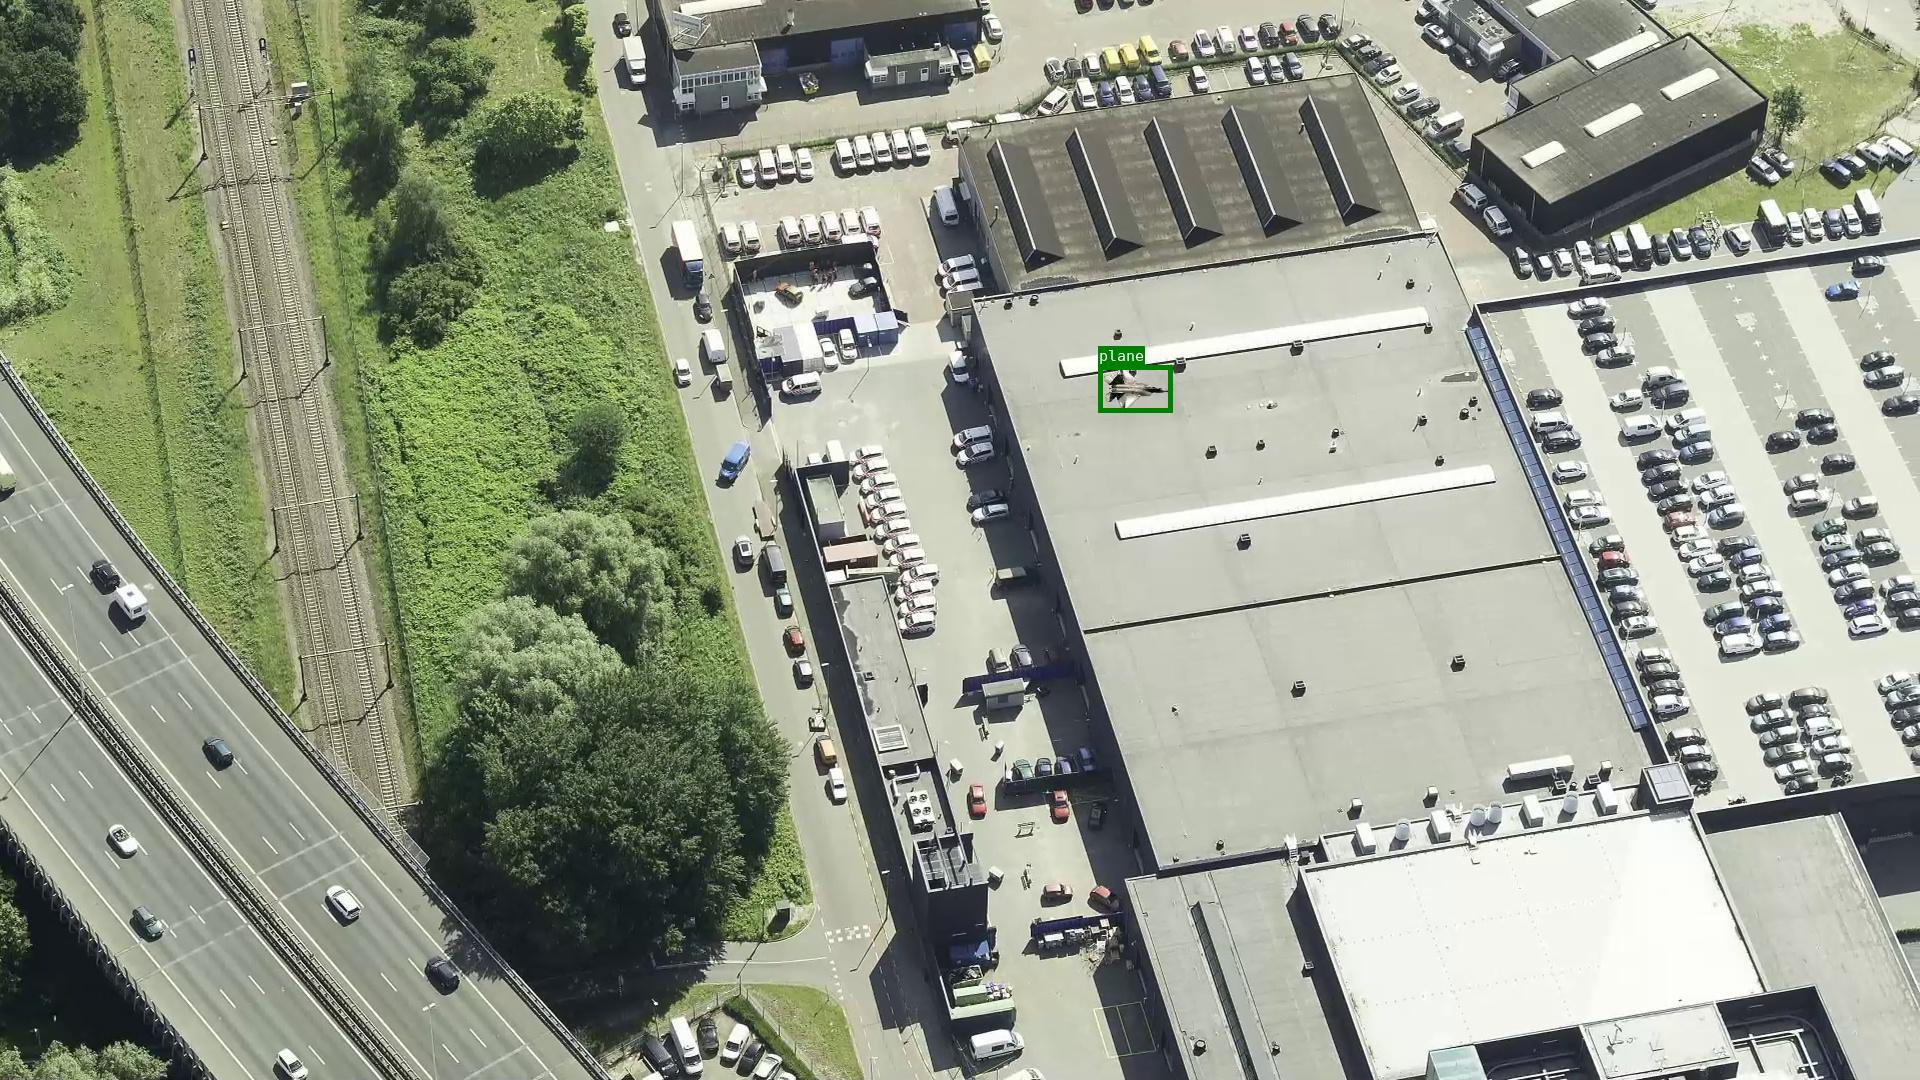plane: (1098, 365, 1172, 411)
